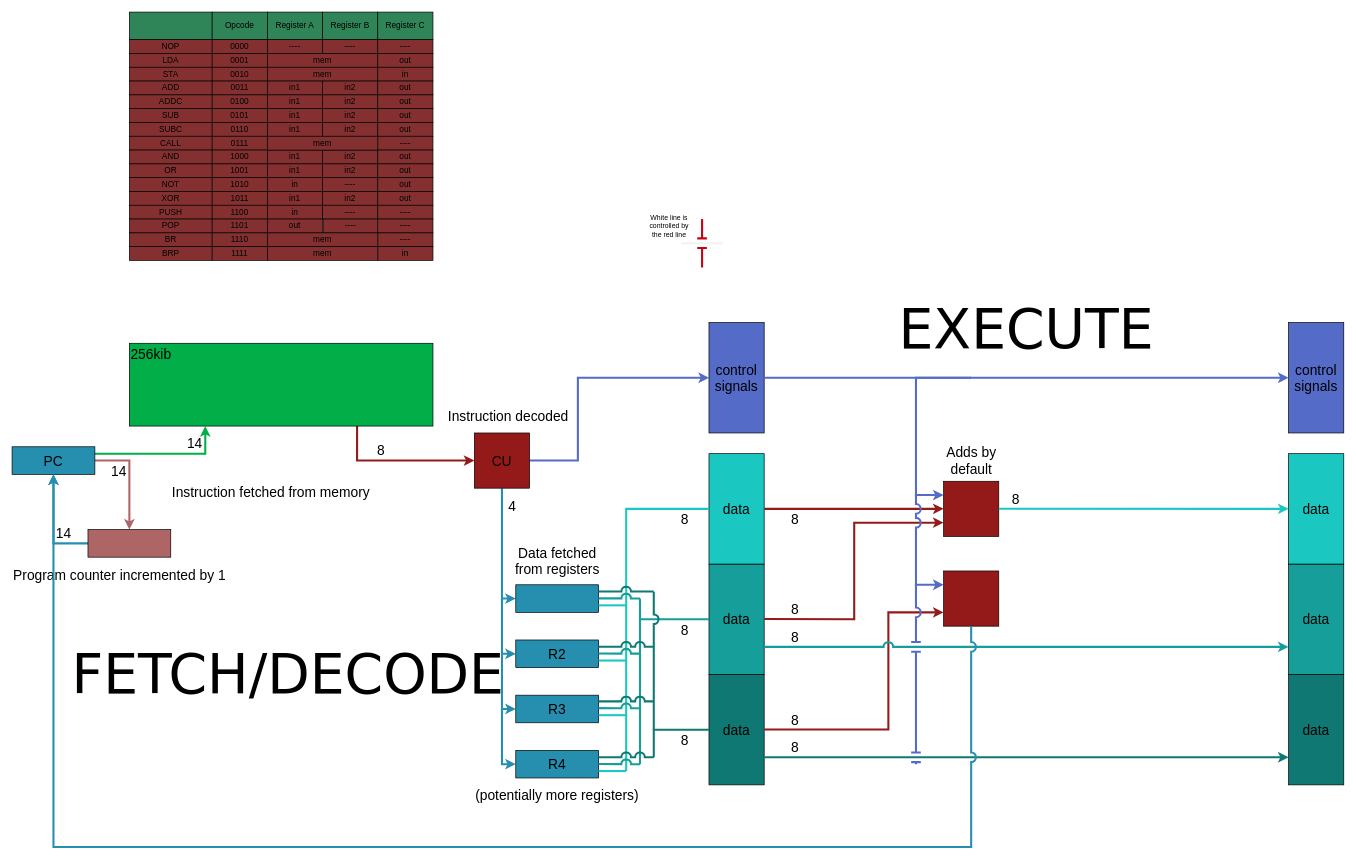
Some shapes in this 1356 by 865 pixel diagram are drawn without their labels. The shapes that lost their labels are listed below. From the top down, each one's box as (x1, y1, x2, y2) in pixels, then its label:
(129, 11, 212, 40): Instruction
(129, 343, 433, 426): EEPROM
(943, 481, 999, 536): ALU
(87, 529, 171, 557): PC Adder
(515, 584, 599, 612): R1
(943, 570, 999, 626): BRU
